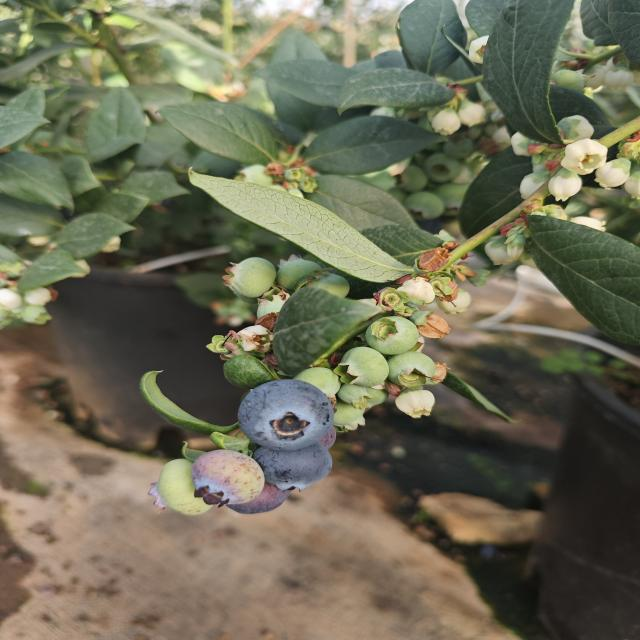ripe: (234, 377, 341, 450), (255, 441, 338, 504), (226, 468, 292, 516)
